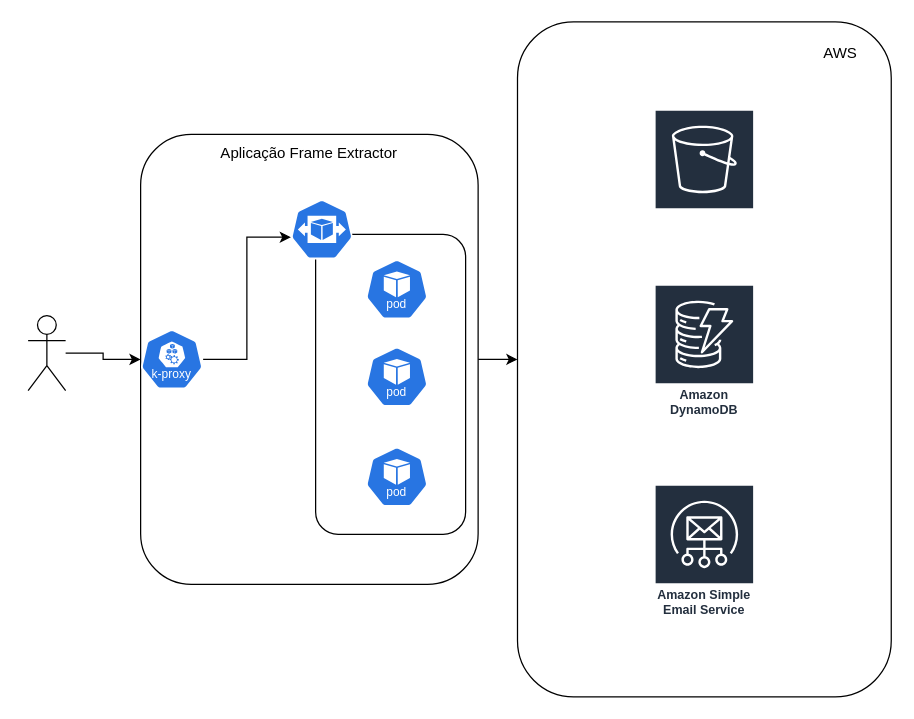
This 914x719 diagram has some shape labels left out. The shapes that lost their labels are listed below. From the top down, each one's centre as x and y in pixels, then its label:
At point 703,171: "Amazon S3".
At point 46,352: "Usuário".
